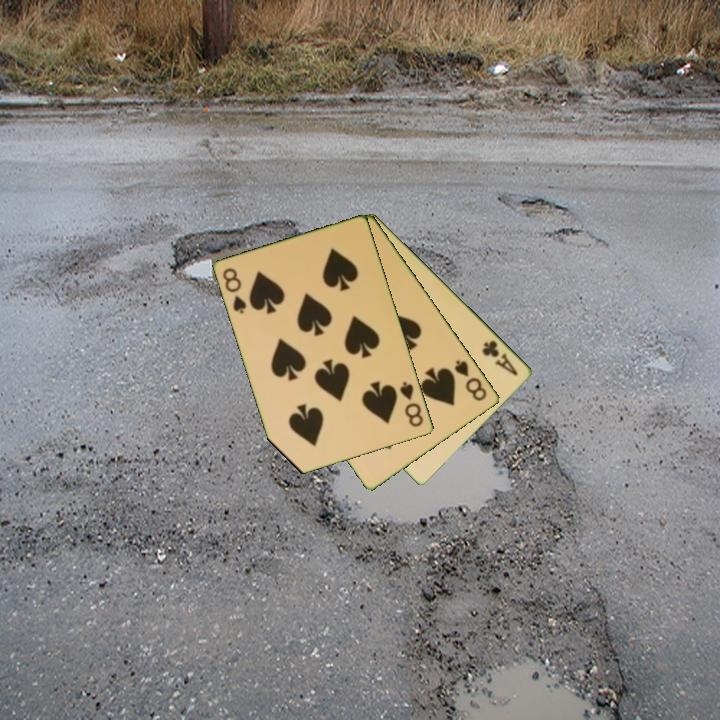8s: (451, 356, 490, 404), (219, 264, 250, 317), (397, 378, 426, 430)
Ac: (479, 337, 521, 379)
